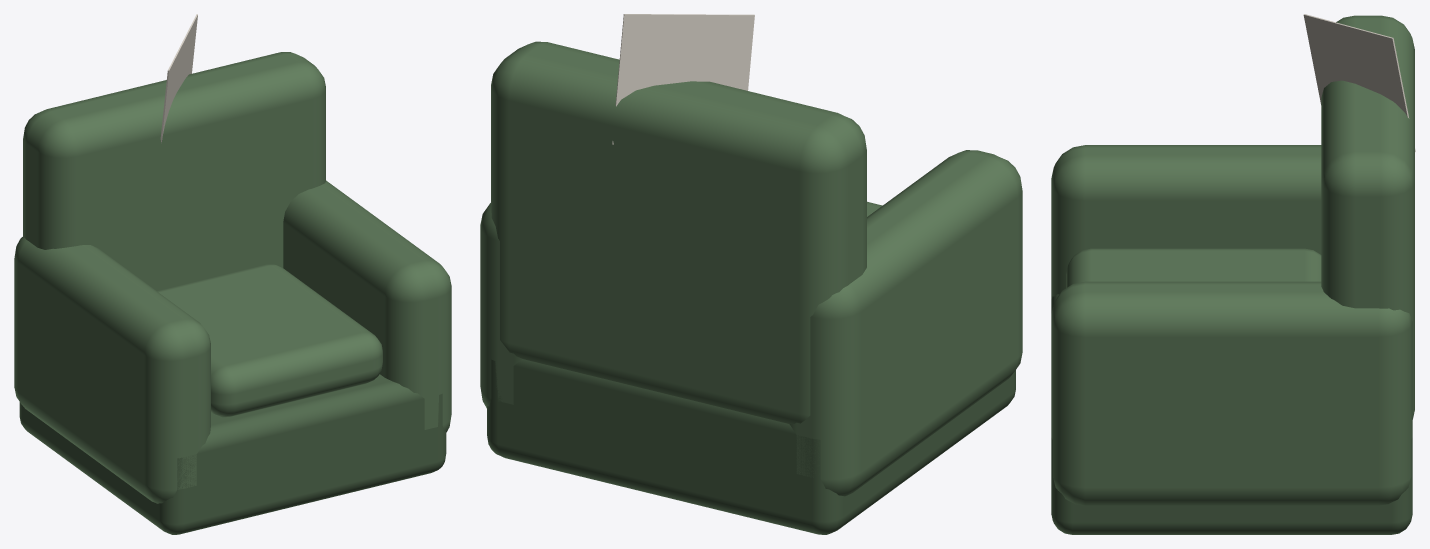
File: armchair.glb
3 views of the same model, side by side, from view 1: azimuth 30°, elevation 25°; view 2: azimuth 150°, elevation 25°; view 3: azimuth 270°, elevation 25° (orthographic). The views are drawn at different scales.
Visible parts, largest first — view 1: main; view 2: main; view 3: main.
Boxes of the visible parts, box(x1,y1,x2,y2) form: main: box(14, 14, 451, 534); main: box(480, 14, 1022, 534); main: box(1051, 14, 1415, 534).
Bounding box in the file's own units: 0.96 × 1.15 × 0.8569.
